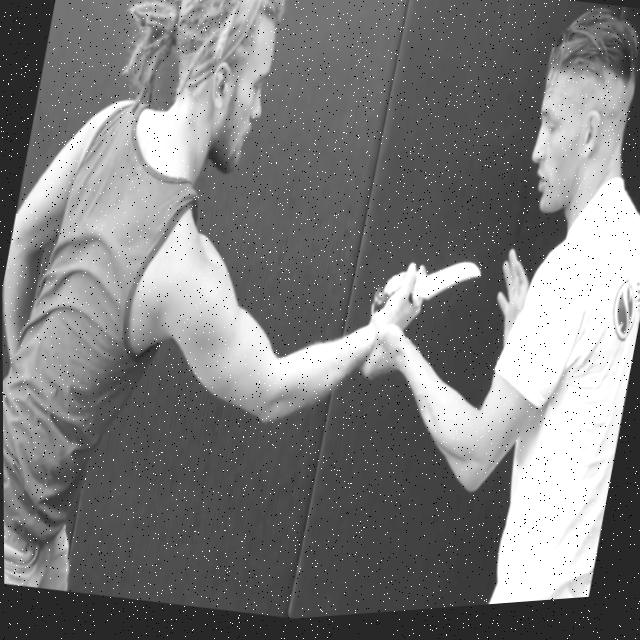knife: (406, 258, 483, 326)
